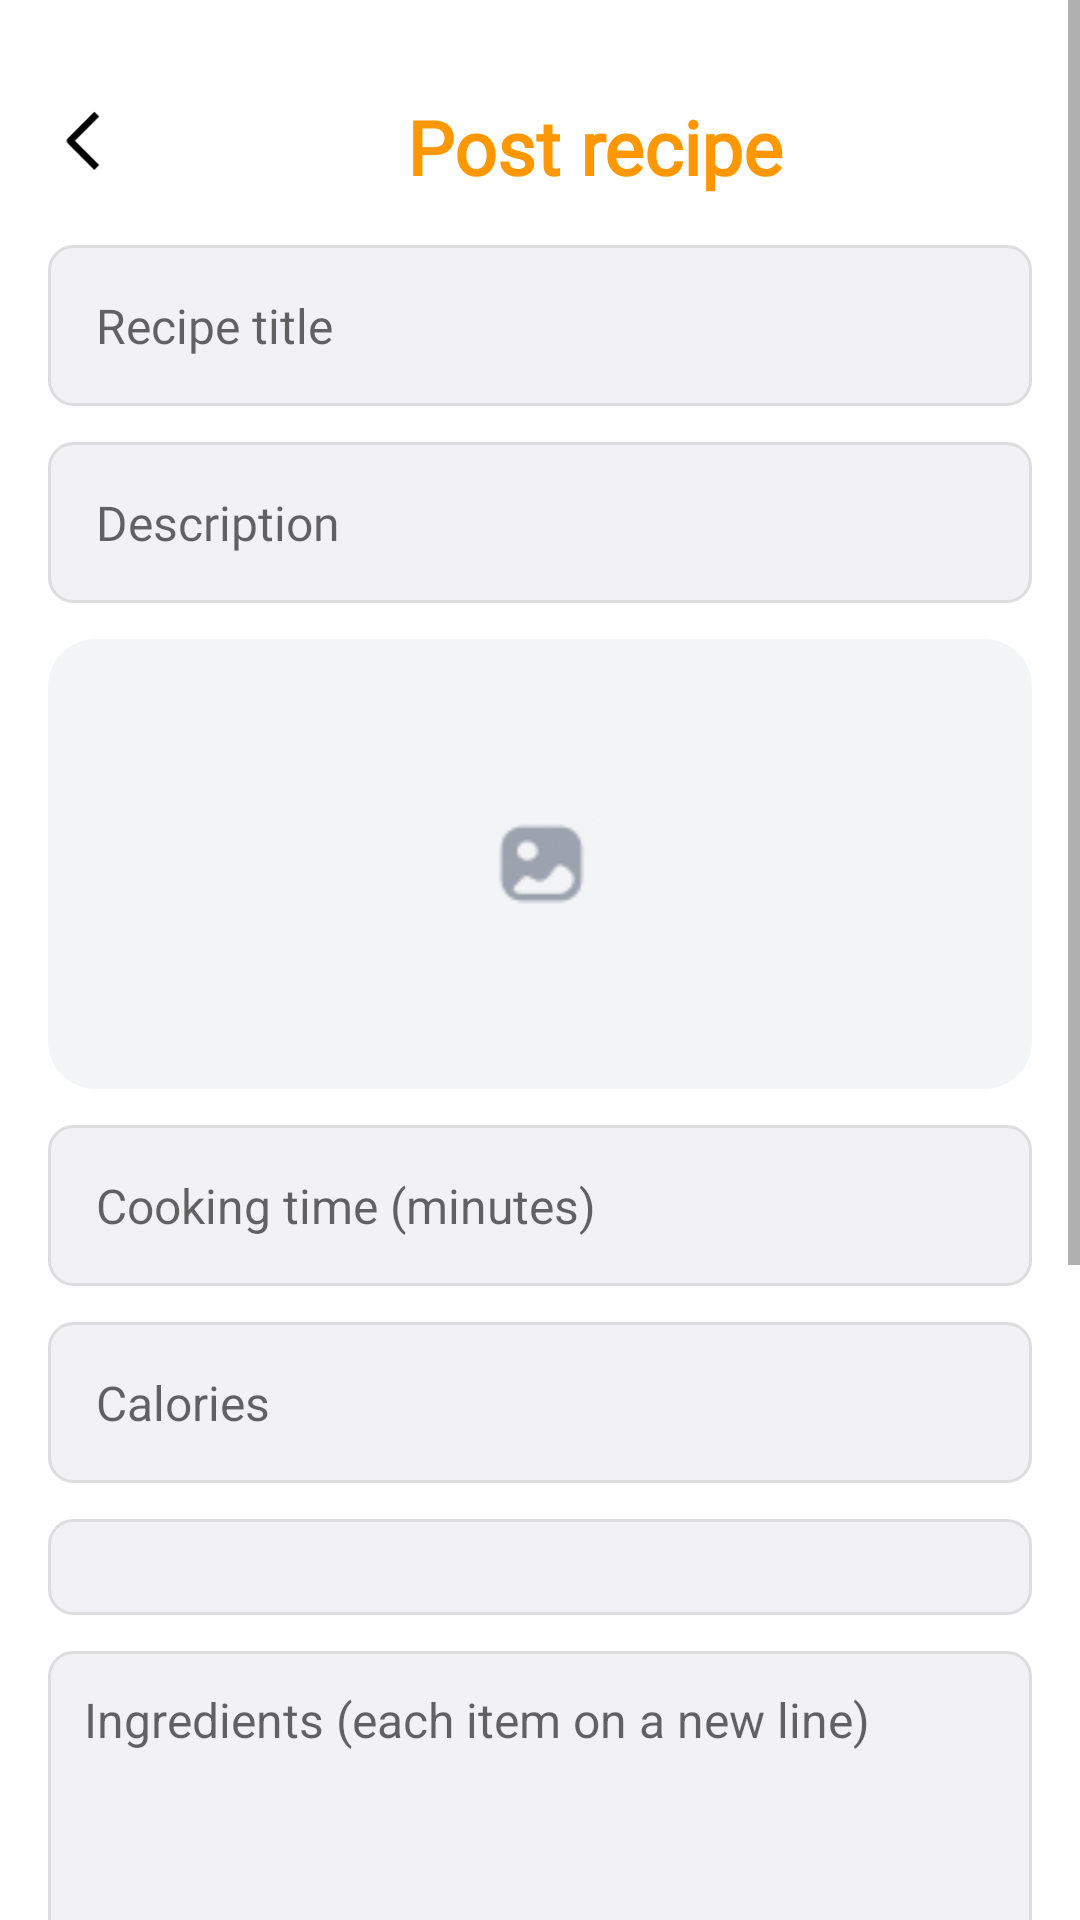

Icon click points for this 1080px×1920px phone screenshot, format [x,y]:
back: [83,141]
